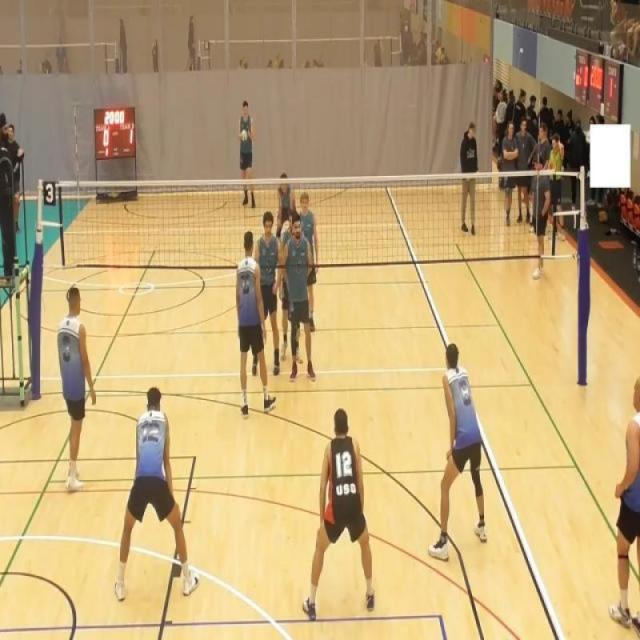volleyball: (240, 129, 248, 141)
